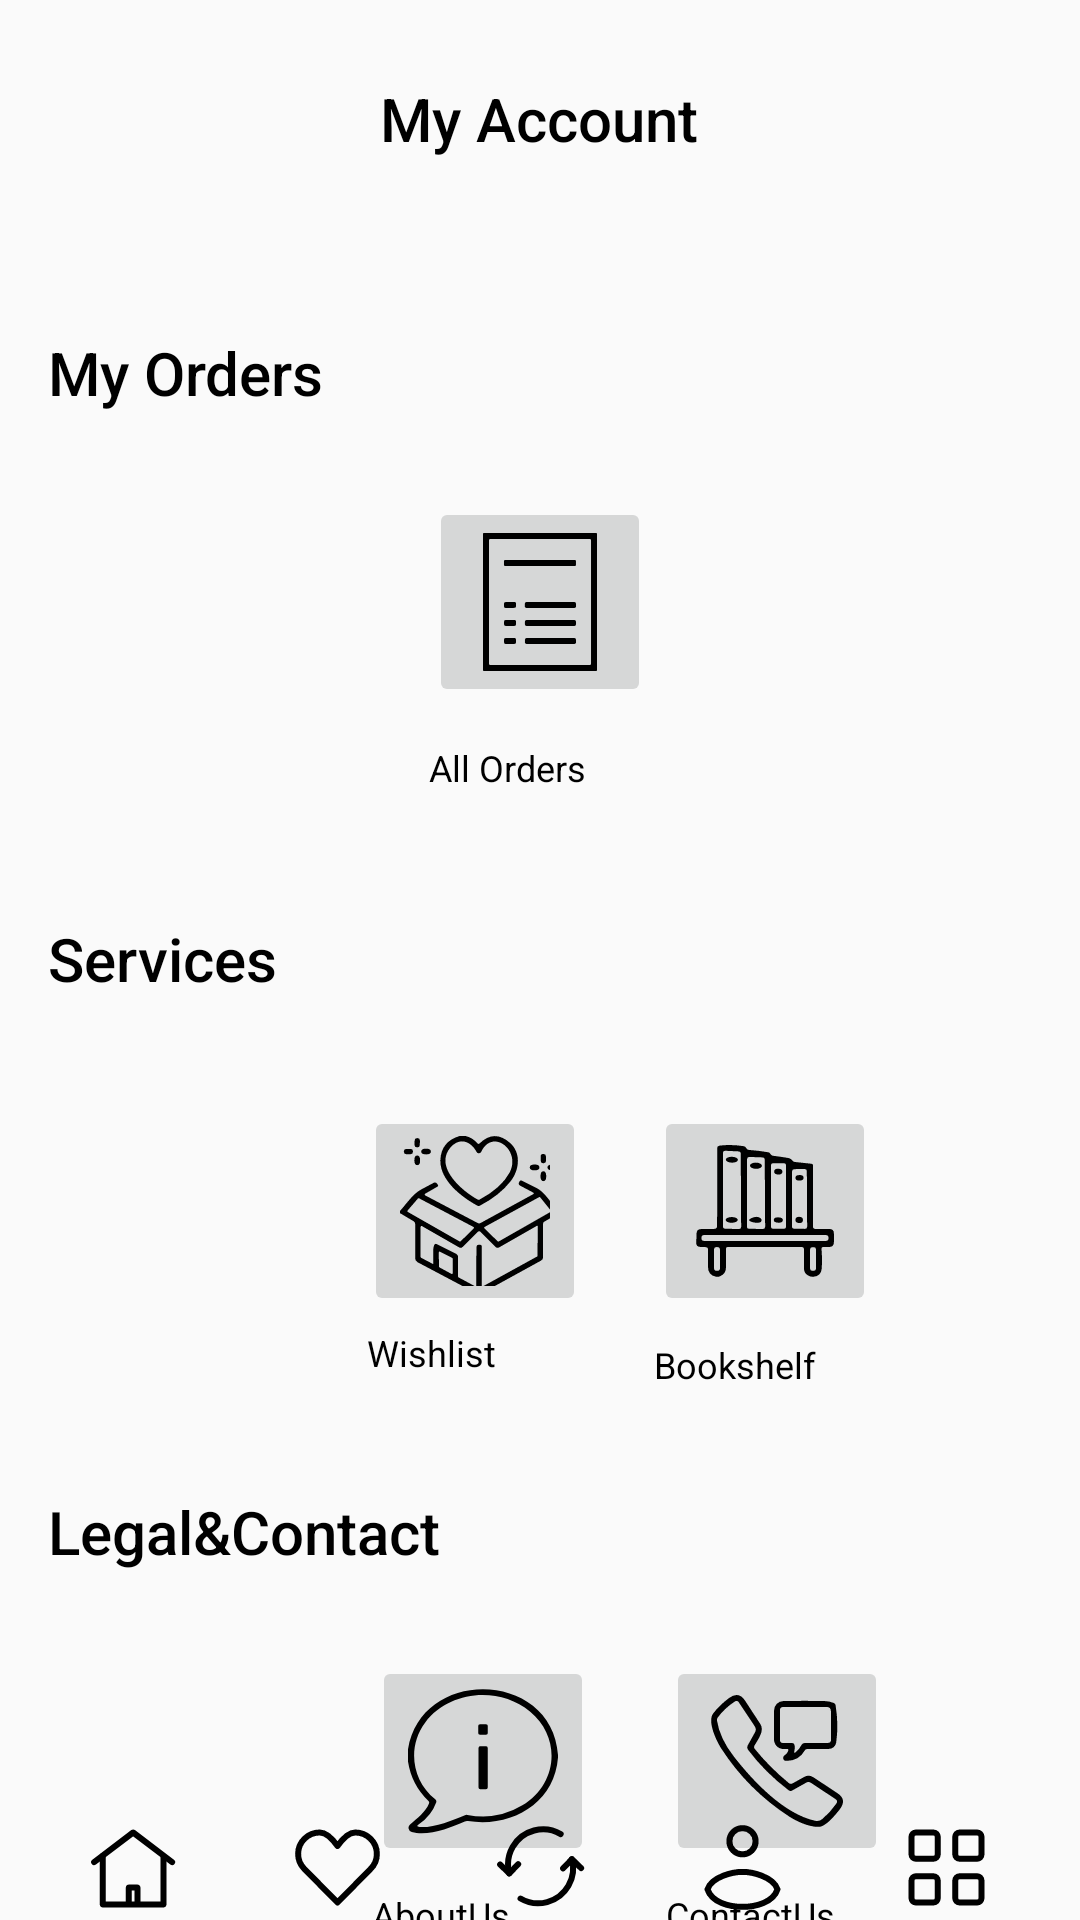

Screen size 1080 x 1920. Icon name, then its box in pixels as box=[x1, y1, x2, y2]:
favorite: box=[295, 1829, 390, 1920]
home: box=[91, 1829, 176, 1908]
menu: box=[908, 1829, 985, 1906]
swap: box=[489, 1824, 585, 1911]
